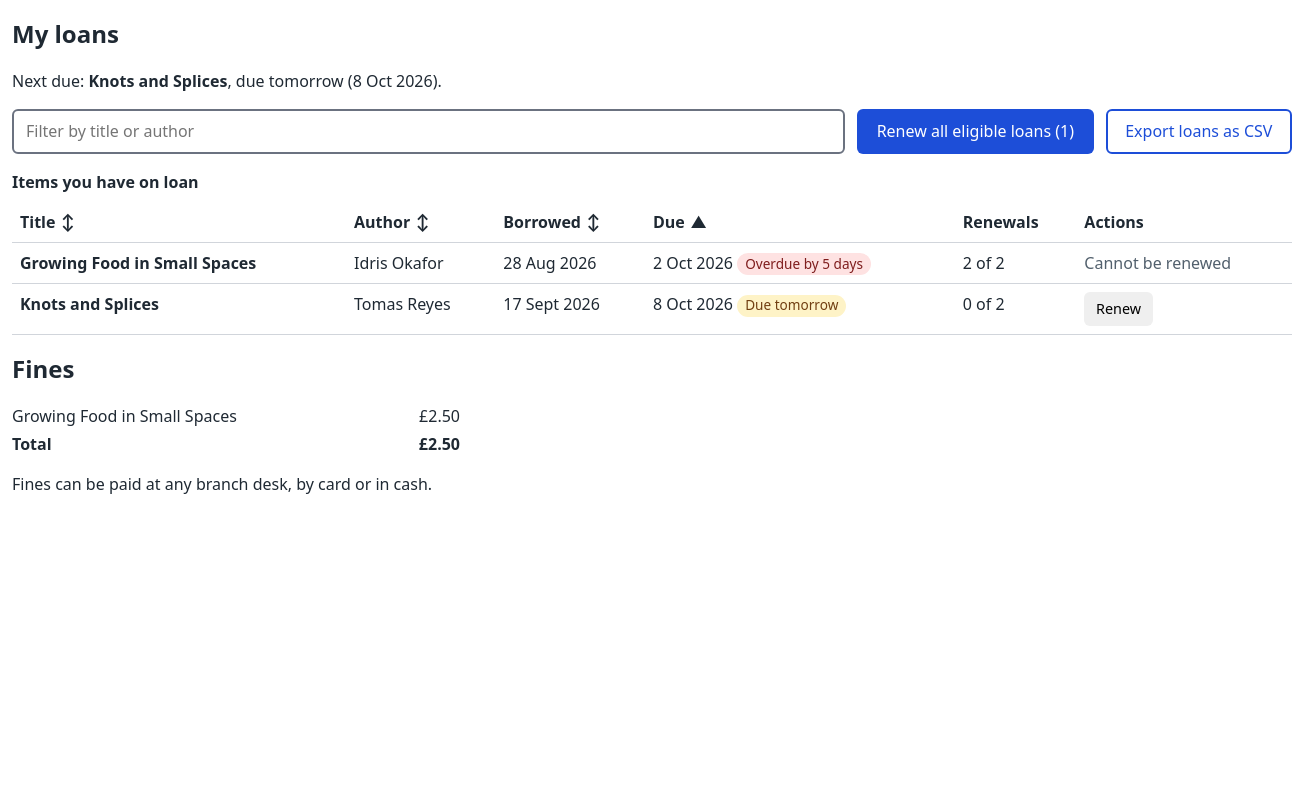
Test case: LoansPage › explains a refused renewal
Click the button "Renew" at (1119, 309), box [1084,292,1153,326]
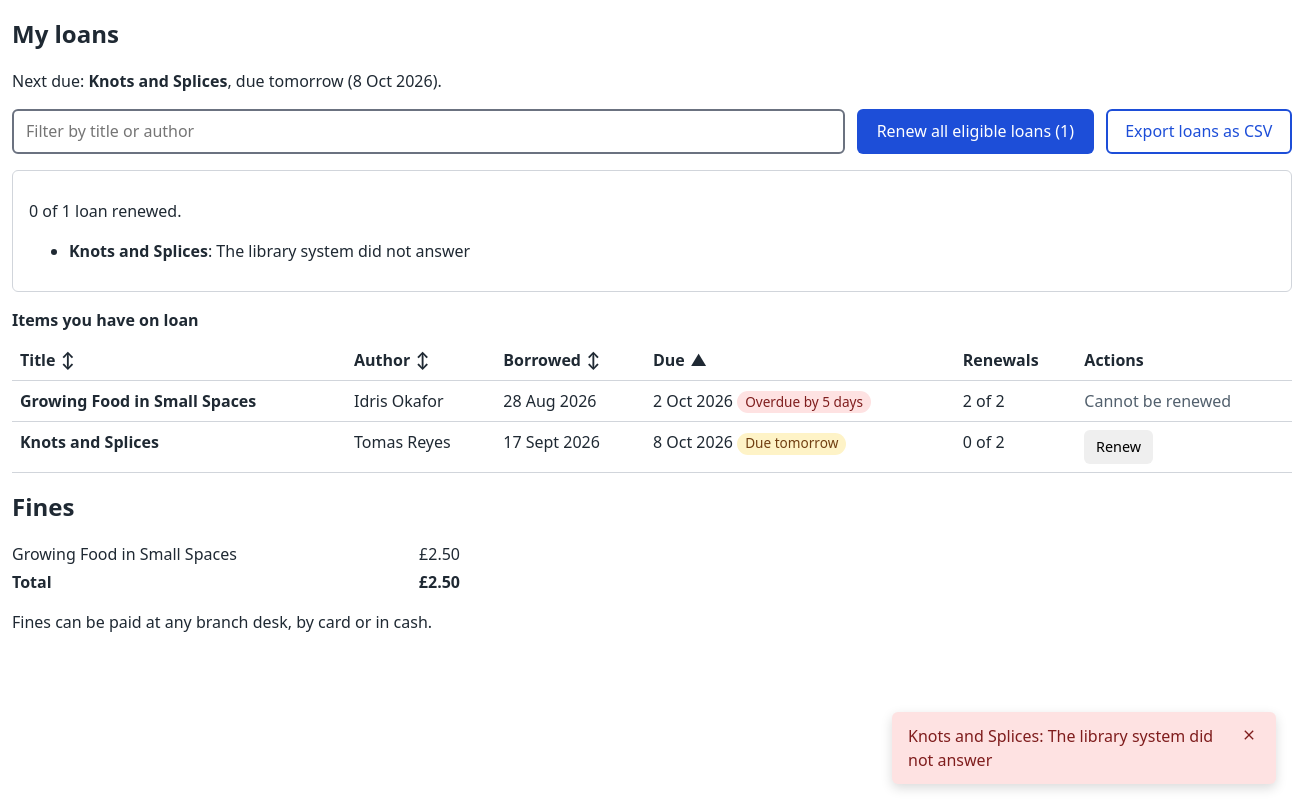
Expected: the text "0 of 1 loan renewed." is shown, [29,200,182,222]
